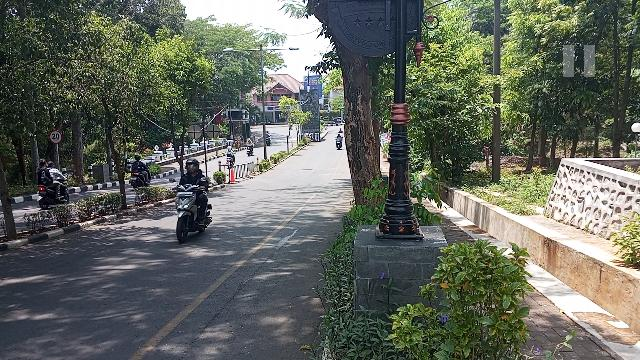helm: (187, 159, 202, 176)
motor: (170, 177, 214, 245), (38, 178, 72, 210), (131, 168, 154, 191)
